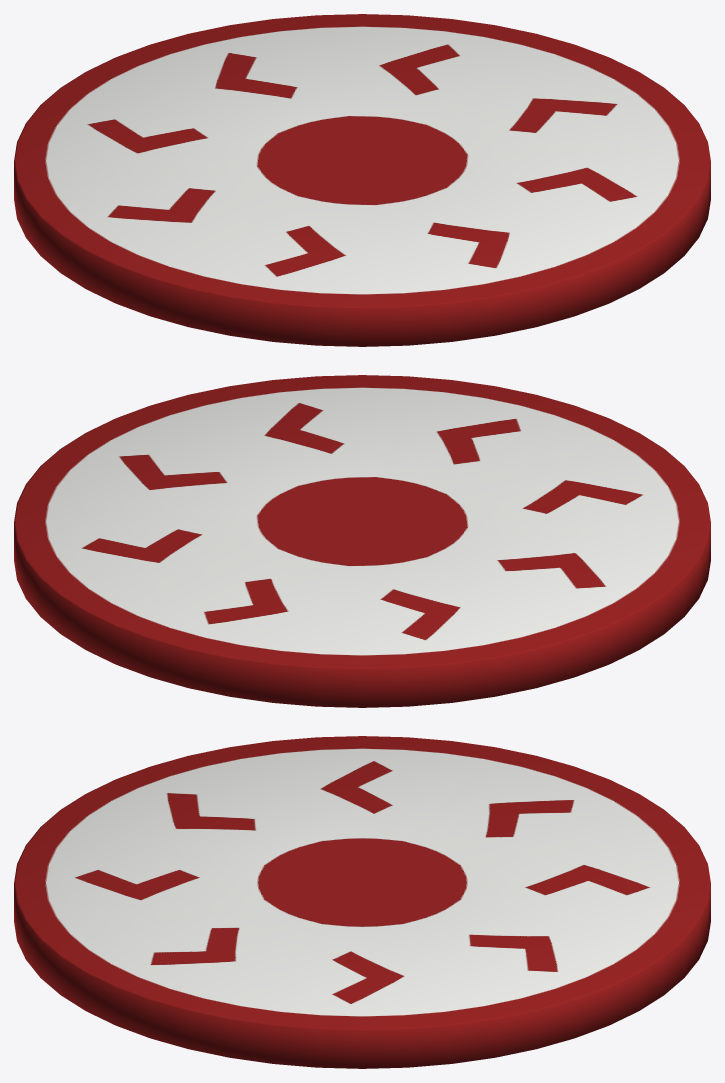
The model's file is E_SpinningWheel_Medium.fbx.
3 views of the same model, one above another, from view 1: azimuth 30°, elevation 25°; view 2: azimuth 150°, elevation 25°; view 3: azimuth 270°, elevation 25° (orthographic).
Visible parts, largest first — view 1: SpinningWheel_Medium; view 2: SpinningWheel_Medium; view 3: SpinningWheel_Medium.
Part boxes in pixels (box(x1,y1,x2,y2)): SpinningWheel_Medium: box(14, 14, 710, 346); SpinningWheel_Medium: box(14, 375, 710, 707); SpinningWheel_Medium: box(14, 736, 710, 1068).
Bounding box in the file's own units: 793 × 50 × 793.
